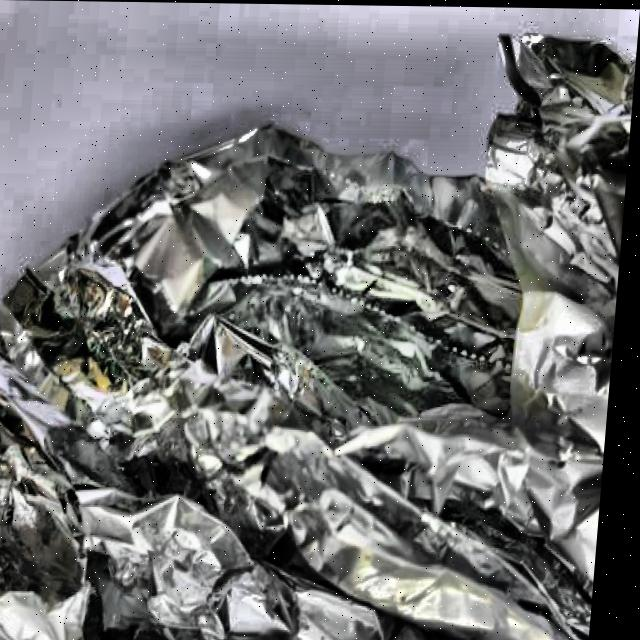metal: (0, 20, 638, 640)
